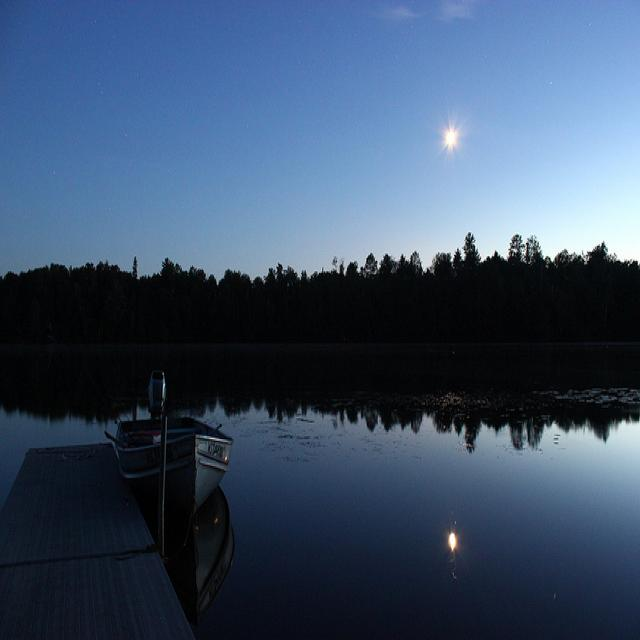Boat: (107, 371, 245, 535)
